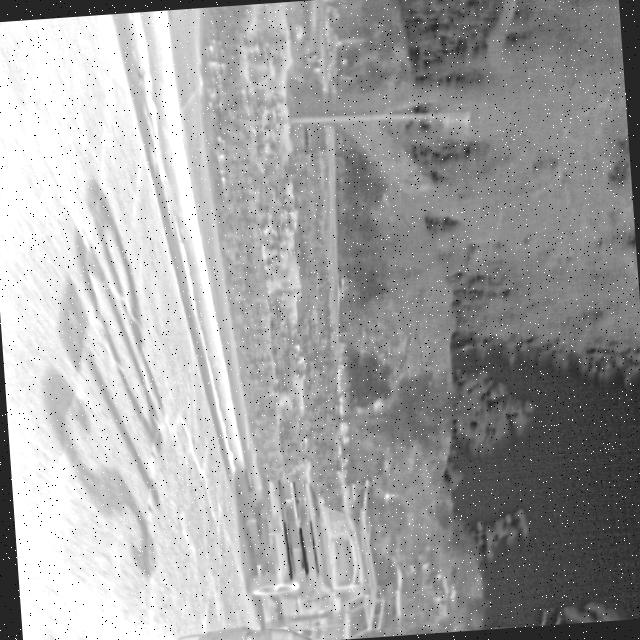Vehicle: (236, 465, 389, 640)
